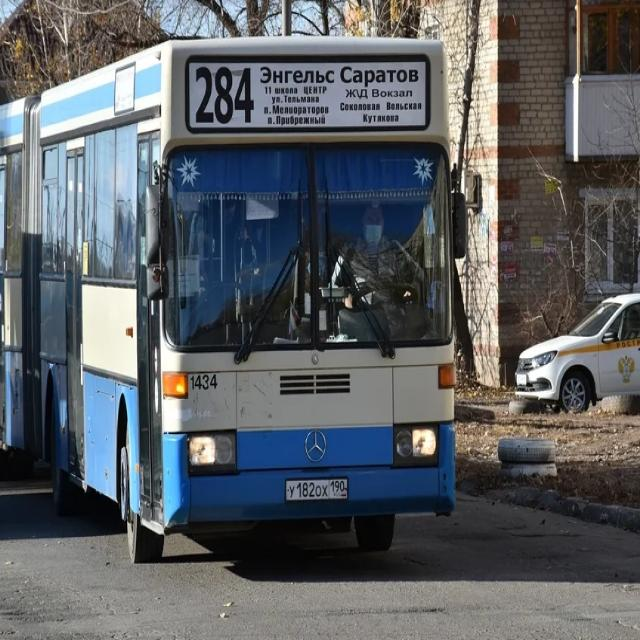number-of-bus: (194, 63, 258, 127)
